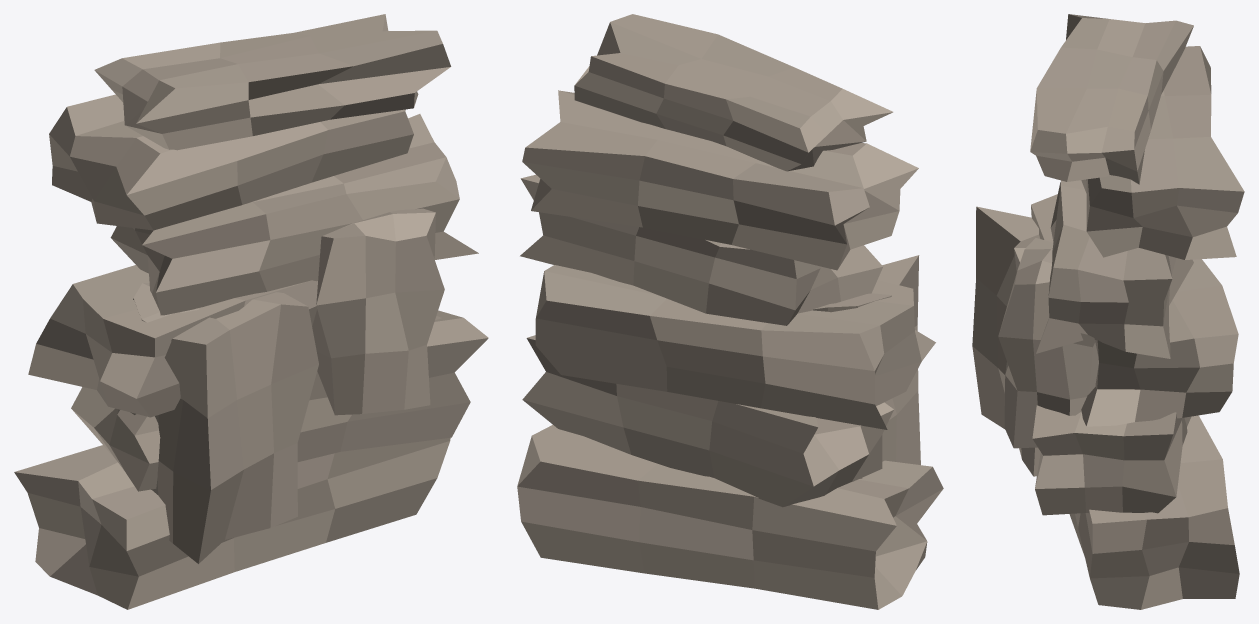
The model's file is SM_Cliff_LookoutFace.fbx.
3 views of the same model, side by side, from view 1: azimuth 30°, elevation 25°; view 2: azimuth 150°, elevation 25°; view 3: azimuth 270°, elevation 25° (orthographic). The views are drawn at different scales.
Visible parts, largest first — view 1: SM_Cliff_LookoutFace; view 2: SM_Cliff_LookoutFace; view 3: SM_Cliff_LookoutFace.
Part boxes in pixels (bbox=[...]): SM_Cliff_LookoutFace: bbox=[14, 14, 488, 609]; SM_Cliff_LookoutFace: bbox=[517, 14, 943, 609]; SM_Cliff_LookoutFace: bbox=[972, 14, 1244, 609].
Bounding box in the file's own units: 4.24 × 6.91 × 8.13.
